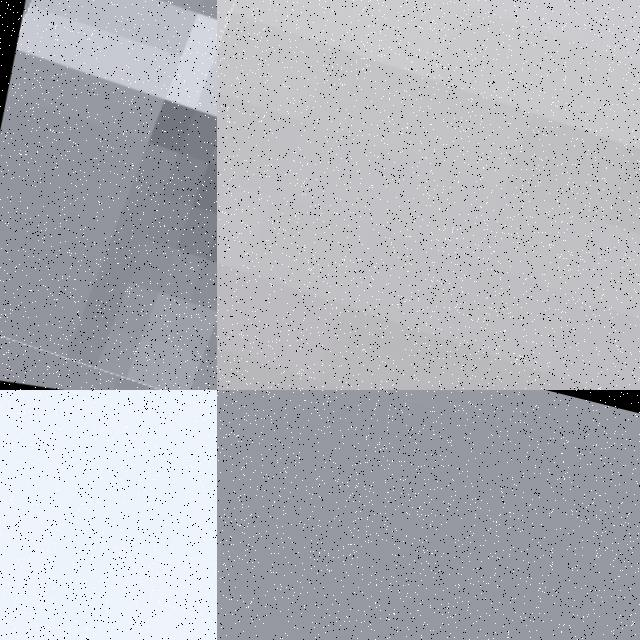drone: (217, 0, 640, 390), (0, 0, 217, 390)
